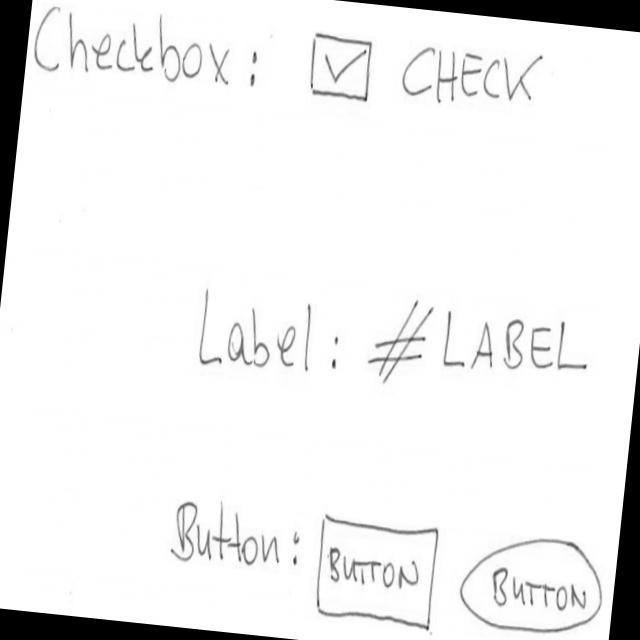button: (455, 527, 611, 640), (311, 510, 447, 637)
checkbox: (306, 26, 552, 125)
label: (364, 290, 599, 410)
